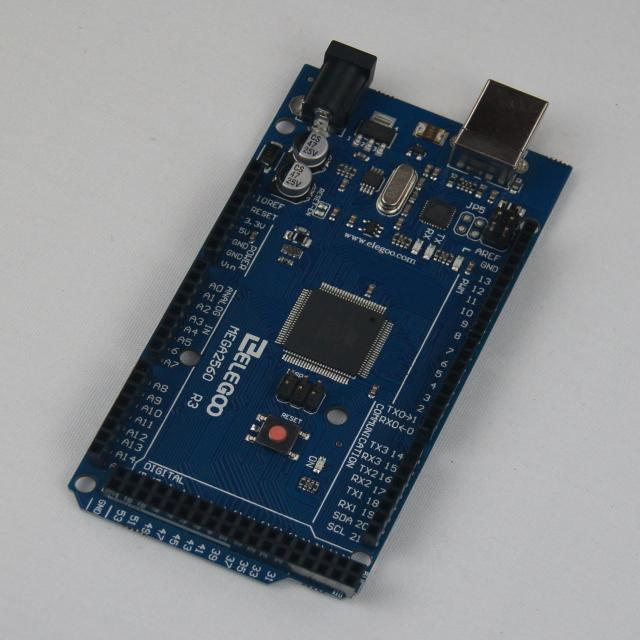Arduino Mega 2560 -Blue-: (71, 42, 572, 599)
